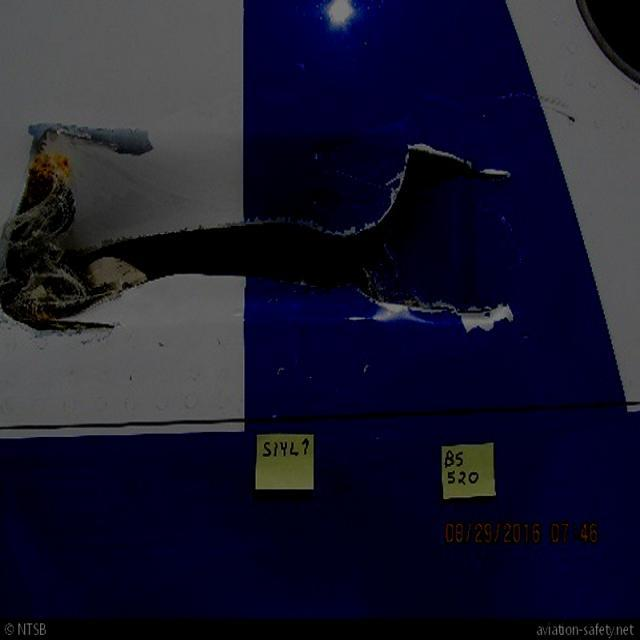crack: (402, 277, 505, 337)
